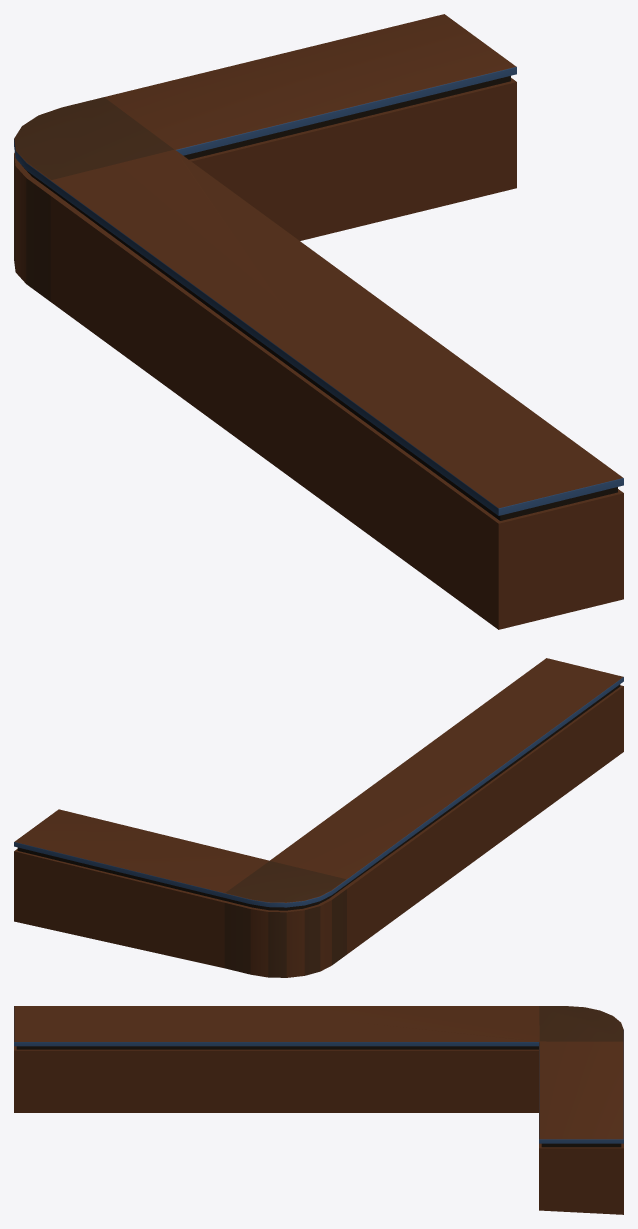
File: BarraDer.fbx
3 renders of one model, top to bottom at view 1: azimuth 30°, elevation 25°; view 2: azimuth 150°, elevation 25°; view 3: azimuth 270°, elevation 25°, orthographic. The views are drawn at different scales.
Visible parts, largest first — view 1: BarraDer; view 2: BarraDer; view 3: BarraDer.
Part boxes in pixels (bbox=[...]): BarraDer: bbox=[14, 14, 623, 629]; BarraDer: bbox=[14, 658, 623, 977]; BarraDer: bbox=[14, 1006, 623, 1214].
Size of the model in its own units: 744 by 197 by 1438.
